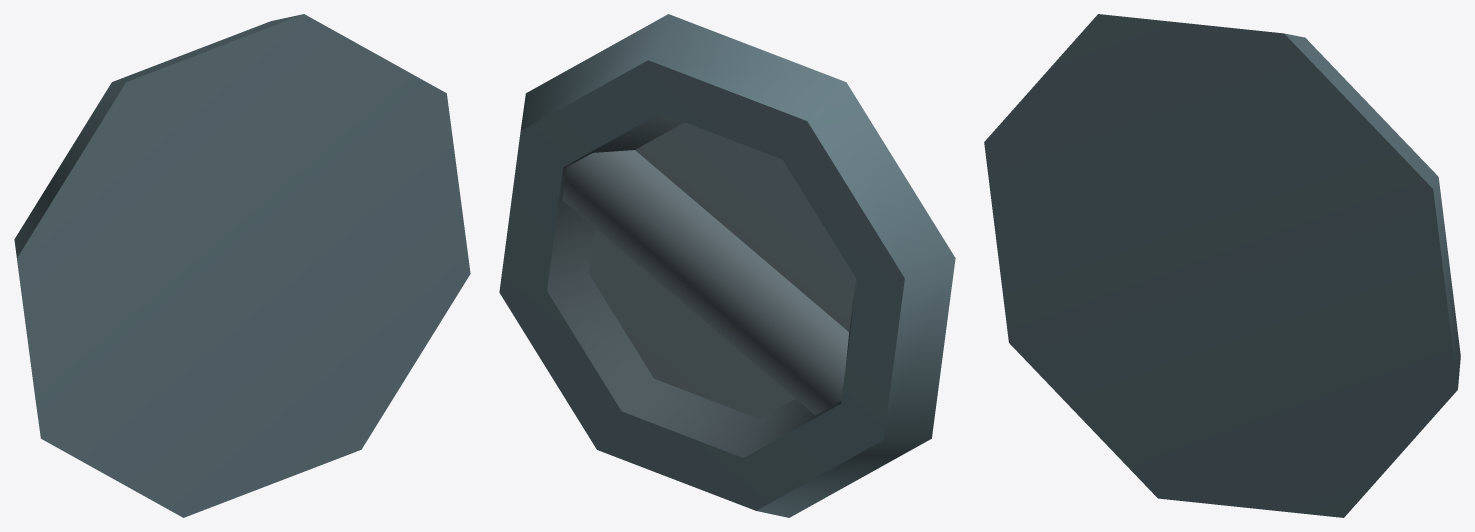
Rendered from Turret_011_Gun_Part_02.fbx.
3 renders of one model, left to right at view 1: azimuth 30°, elevation 25°; view 2: azimuth 150°, elevation 25°; view 3: azimuth 330°, elevation 25°, orthographic. The views are drawn at different scales.
Parts seen in each view (by area): view 1: Turret_011_Gun_Part_02; view 2: Turret_011_Gun_Part_02; view 3: Turret_011_Gun_Part_02.
Part boxes in pixels (x1,y1,x2,y2): Turret_011_Gun_Part_02: [14, 14, 470, 517]; Turret_011_Gun_Part_02: [499, 14, 955, 517]; Turret_011_Gun_Part_02: [984, 14, 1460, 517].
Bounding box in the file's own units: 19.08 × 1.95 × 19.08.
